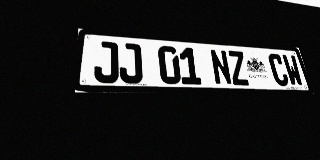0: (157, 45, 181, 84)
1: (178, 47, 202, 85)
C: (267, 53, 290, 86)
J: (94, 41, 119, 83), (119, 43, 143, 84)
N: (209, 49, 233, 85)
W: (281, 54, 304, 86)
Z: (226, 50, 250, 85)
